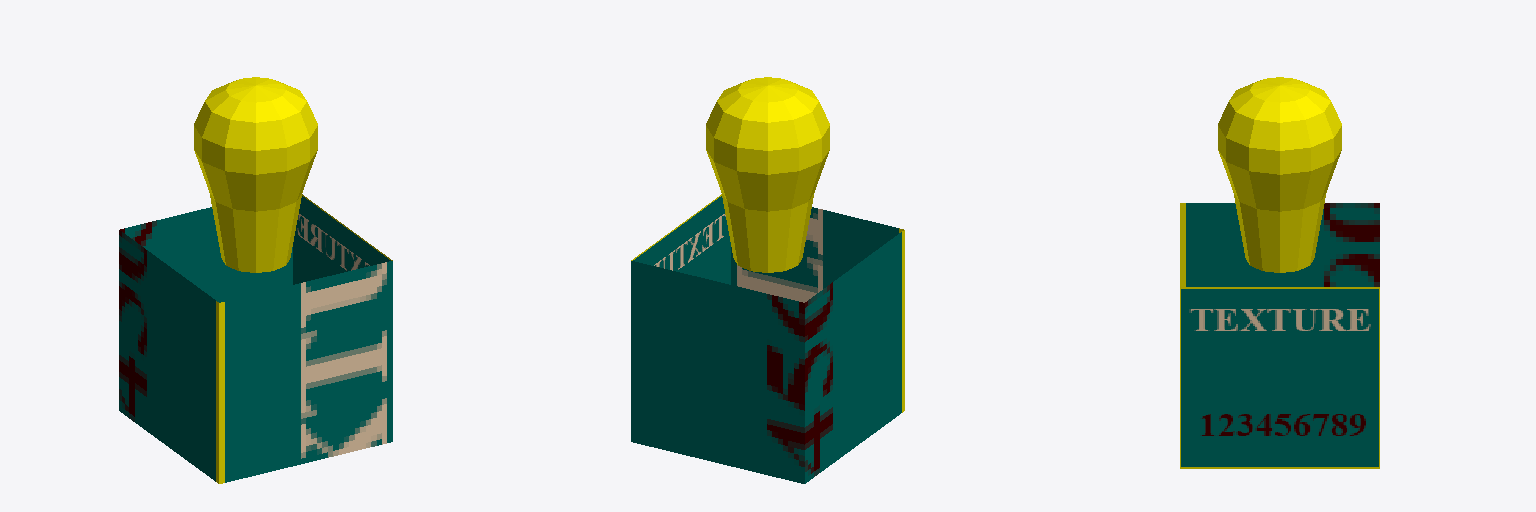
3 views of the same model, side by side, from view 1: azimuth 30°, elevation 25°; view 2: azimuth 150°, elevation 25°; view 3: azimuth 270°, elevation 25° (orthographic).
Parts seen in each view (by area): view 1: Cube; view 2: Cube; view 3: Cube.
Boxes of the visible parts, x1=… form: Cube: x1=119, y1=77, x2=392, y2=483; Cube: x1=631, y1=77, x2=904, y2=483; Cube: x1=1180, y1=77, x2=1379, y2=468.
Bounding box in the file's own units: 2 × 3.76 × 2.
1 materials, 1 textured.